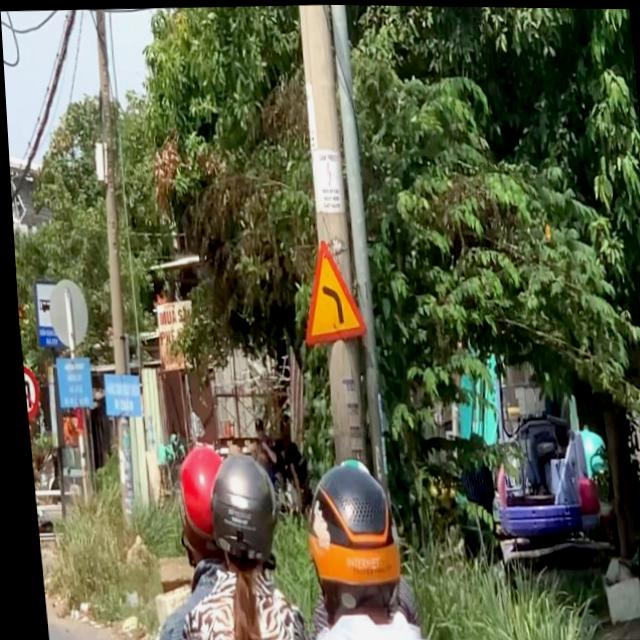cho ngoat nguy hiem vong ben trai: (291, 233, 367, 350)
